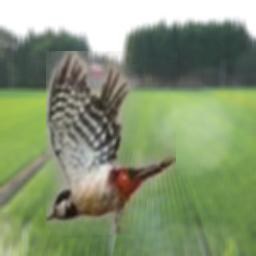Woodpecker: (46, 51, 176, 235)
